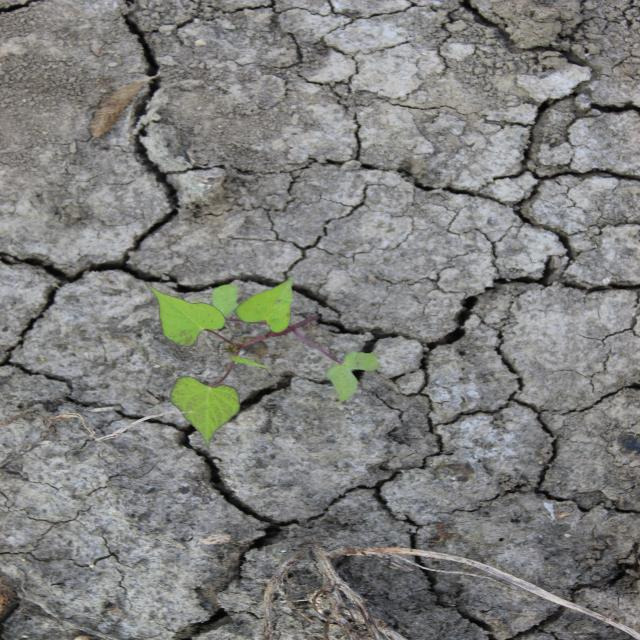MorningGlory: (143, 277, 382, 453)
